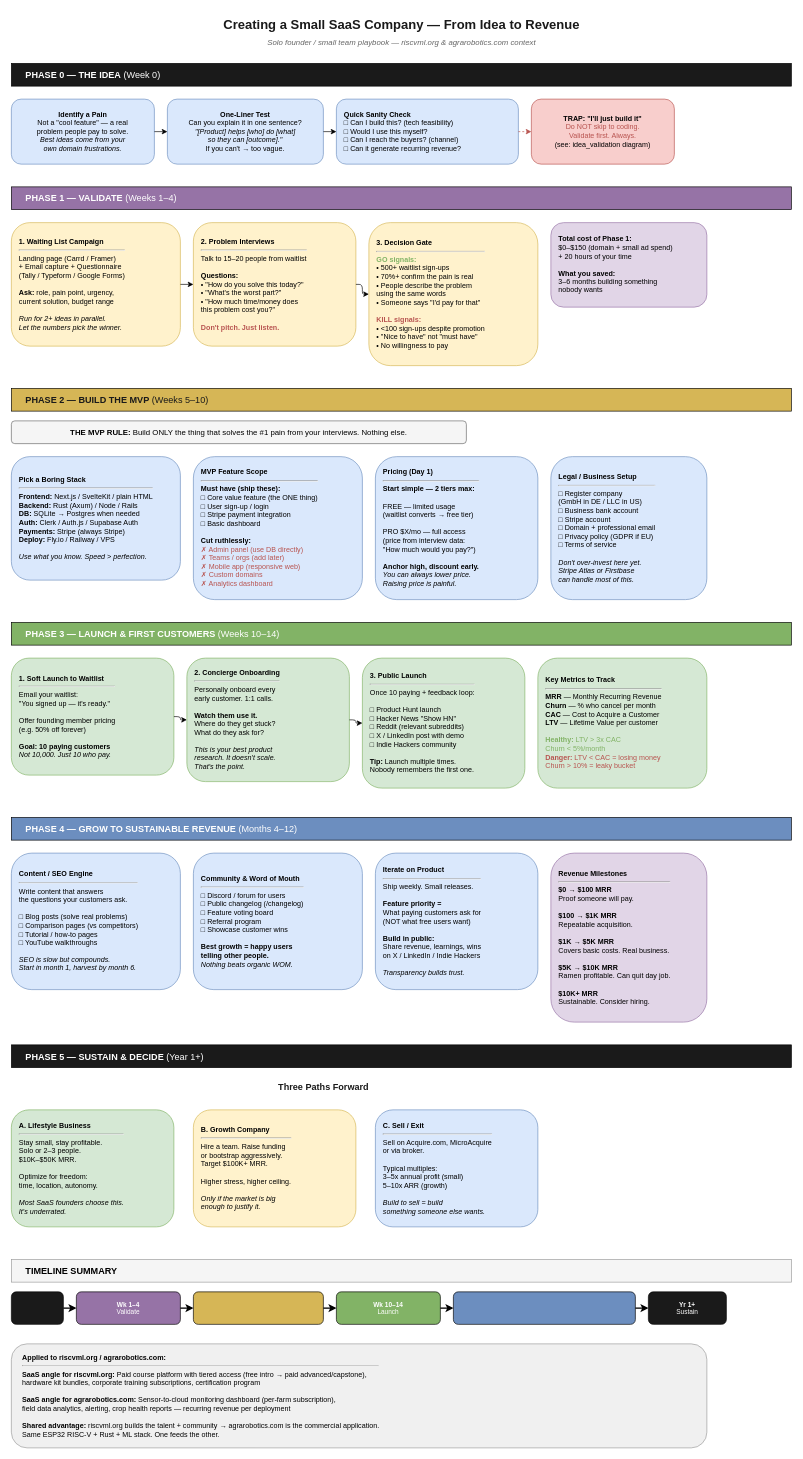
Image size: 803x1459. Some labels were removed from this diagram. The box of each missing label's shape, as (x1, y1, x2, y2) in pixels:
Mo 4–12 Grow: (453, 1291, 635, 1324)
Wk 0 Idea: (11, 1291, 63, 1324)
Wk 5–10 Build MVP: (193, 1291, 323, 1324)
